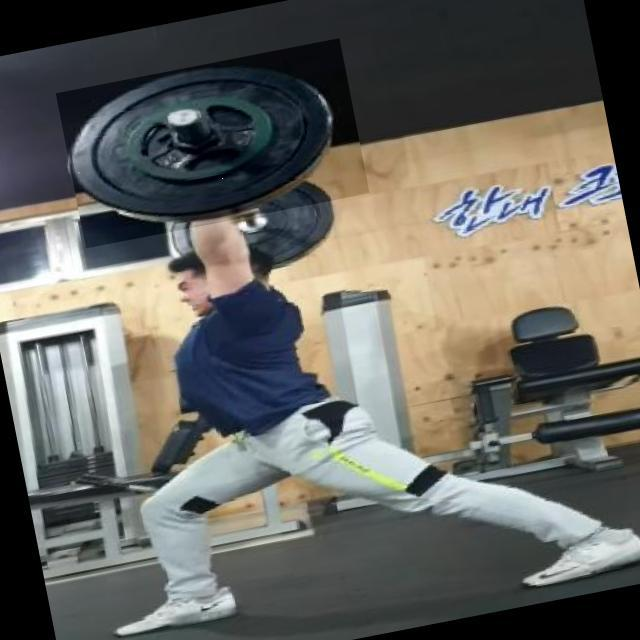barbell: (57, 40, 371, 252)
